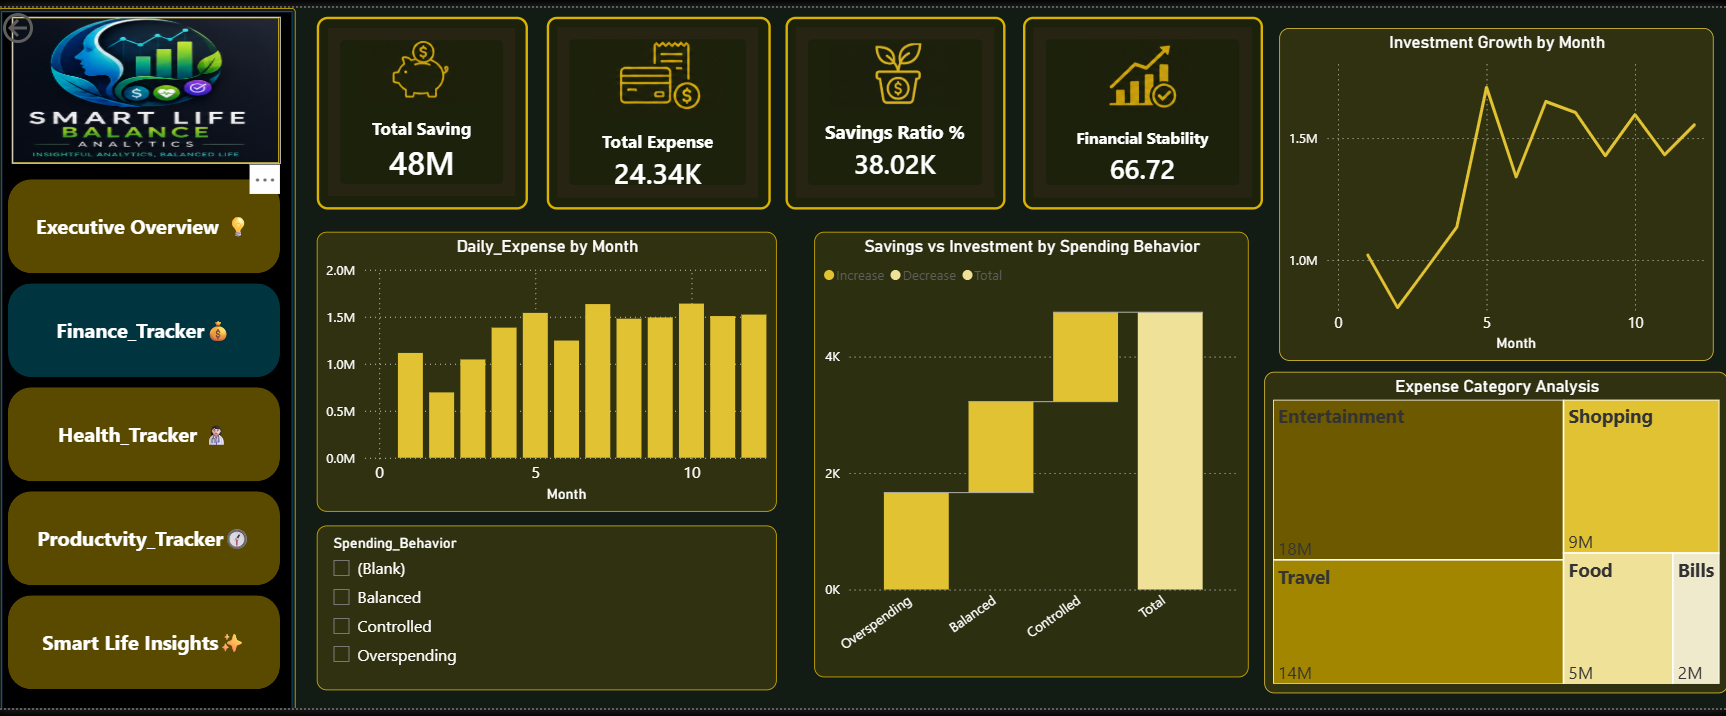

The dashboard page shown, as its layout file describes it:
{"tool":"powerbi","page":{"name":"Finance_Tracker💰","canvas":[1730,700],"ordinal":1},"visuals":[{"type":"shape","box":[0,0,297.5,796.2],"z":0},{"type":"pageNavigator","box":[10,171.2,272.5,511.2],"z":1000},{"type":"image","box":[13.7,8.8,268.8,147.5],"z":2000},{"type":"actionButton","box":[0,0,100,40],"z":3000},{"type":"clusteredColumnChart","title":"Daily_Expense by Month","fields":{"Category":["Calendar.Month"],"Y":["Sum(master_tracker.Daily_Expense)"]},"box":[318.8,223.8,460,280],"z":4000},{"type":"waterfallChart","title":"Savings vs Investment by Spending Behavior","fields":{"Category":["finance_tracker.Spending_Behavior"],"Y":["Sum(Calendar.Month)"]},"box":[815.7,224.3,434.3,445.7],"z":5000},{"type":"lineChart","title":"Investment Growth by Month","fields":{"Y":["Sum(master_tracker.Investment_Amount)"],"Category":["Calendar.Month"]},"box":[1281.4,20,434.3,332.9],"z":6000},{"type":"treemap","title":" Expense Category Analysis ⭐","fields":{"Group":["finance_tracker.Expense Categorys"],"Values":["Sum(finance_tracker.Daily_Expense)"]},"box":[1265.7,364.3,464.3,321.4],"z":7000},{"type":"slicer","fields":{"Values":["finance_tracker.Spending_Behavior"]},"box":[318.8,517.5,460,165],"z":8000},{"type":"cardVisual","fields":{"Data":["Max(finance_tracker.Savings Ratio %)"]},"box":[787.5,8.8,220,192.5],"z":9000},{"type":"cardVisual","fields":{"Data":["Avg(finance_tracker.Daily_Expense)"]},"box":[548.8,8.8,223.8,192.5],"z":10000},{"type":"cardVisual","fields":{"Data":["measures table.Financial Stability Score"]},"box":[1025,8.8,240,192.5],"z":11000},{"type":"cardVisual","fields":{"Data":["Sum(master_tracker.Savings_Amount)"]},"box":[318.8,8.8,211.2,192.5],"z":12000}]}

Visuals, with their boxes on the page's 1730x700 design canvas (x1, y1, x2, y2). These are canvas units, not pixel positions in the 1726x716 screenshot, which may show the page scaled, cropped or inside an application window:
shape: x1=0 y1=0 x2=298 y2=796
pageNavigator: x1=10 y1=171 x2=282 y2=682
image: x1=14 y1=9 x2=282 y2=156
actionButton: x1=0 y1=0 x2=100 y2=40
"Daily_Expense by Month" clusteredColumnChart: x1=319 y1=224 x2=779 y2=504
"Savings vs Investment by Spending Behavior" waterfallChart: x1=816 y1=224 x2=1250 y2=670
"Investment Growth by Month" lineChart: x1=1281 y1=20 x2=1716 y2=353
" Expense Category Analysis ⭐" treemap: x1=1266 y1=364 x2=1730 y2=686
slicer - finance_tracker.Spending_Behavior: x1=319 y1=518 x2=779 y2=682
cardVisual - Max(finance_tracker.Savings Ratio %): x1=788 y1=9 x2=1008 y2=201
cardVisual - Avg(finance_tracker.Daily_Expense): x1=549 y1=9 x2=773 y2=201
cardVisual - measures table.Financial Stability Score: x1=1025 y1=9 x2=1265 y2=201
cardVisual - Sum(master_tracker.Savings_Amount): x1=319 y1=9 x2=530 y2=201
